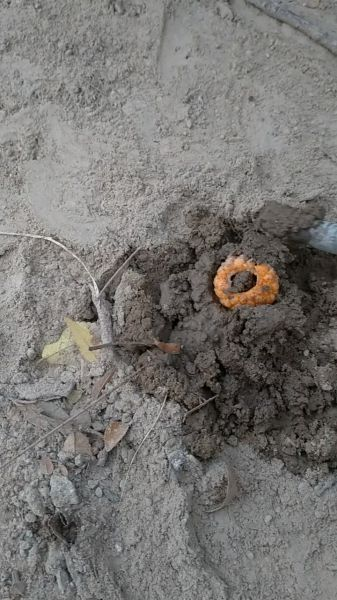eggs: (208, 247, 285, 311)
